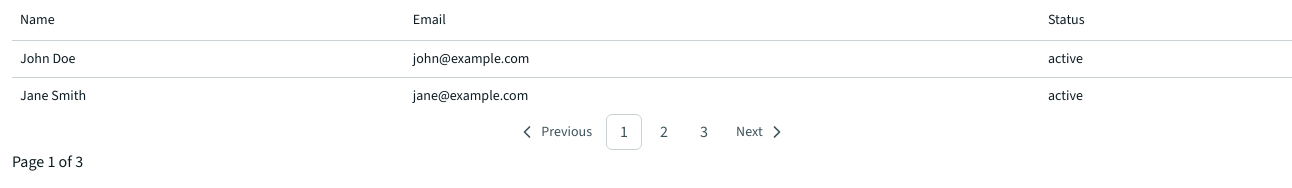
Data Display Integration › Paginated Table › navigates to next page
Click the link with aria-label "go to next page" at (761, 132), box [736,122,787,142]
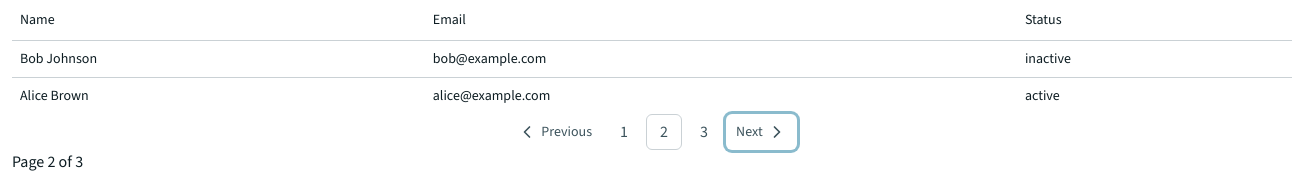
Check: the text "John Doe" is gone
Check: the text "Bob Johnson" is shown, box [12,40,425,77]
Check: the text "Alice Brown" is shown, box [12,77,425,114]
